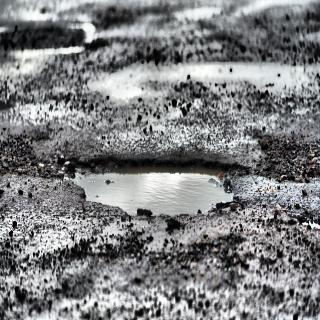pothole: (57, 144, 260, 235)
